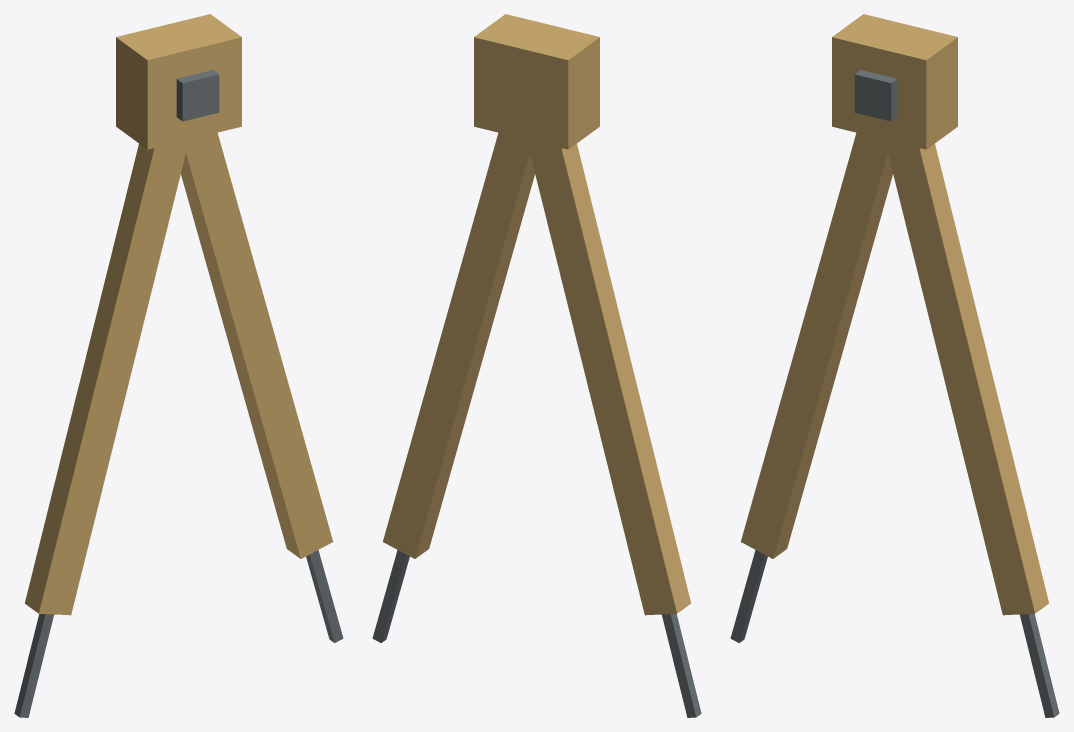
Rendered from demo-dividers.glb.
3 views of the same model, side by side, from view 1: azimuth 30°, elevation 25°; view 2: azimuth 150°, elevation 25°; view 3: azimuth 330°, elevation 25° (orthographic).
Visible parts, largest first — view 1: Brass leg (×2), Demonstration drafting dividers; view 2: Brass leg (×2), Demonstration drafting dividers; view 3: Brass leg (×2), Demonstration drafting dividers.
Part boxes in pixels (left/top/right/bottom): Brass leg (×2): left=14, top=132, right=343, bottom=717; Demonstration drafting dividers: left=116, top=14, right=241, bottom=149; Brass leg (×2): left=372, top=132, right=701, bottom=717; Demonstration drafting dividers: left=474, top=14, right=599, bottom=149; Brass leg (×2): left=730, top=132, right=1059, bottom=717; Demonstration drafting dividers: left=832, top=14, right=957, bottom=149.
Size of the model in its own units: 0.1061 by 0.2009 by 0.0215.
